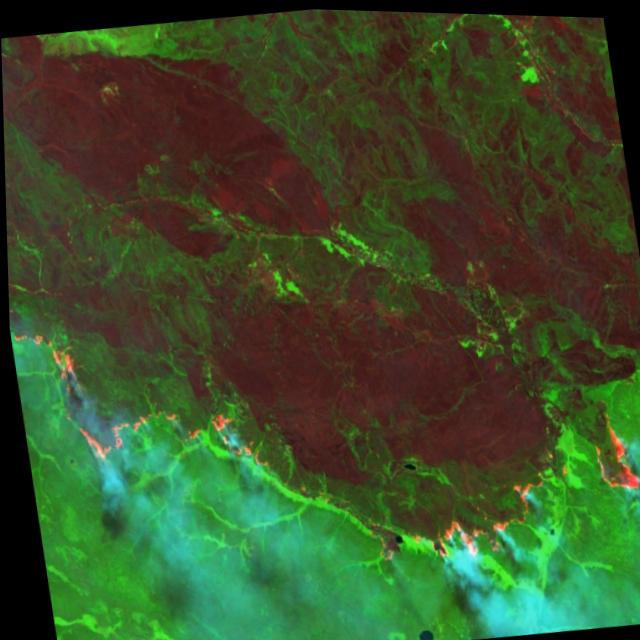fire: (350, 393, 640, 585), (7, 288, 271, 493)
